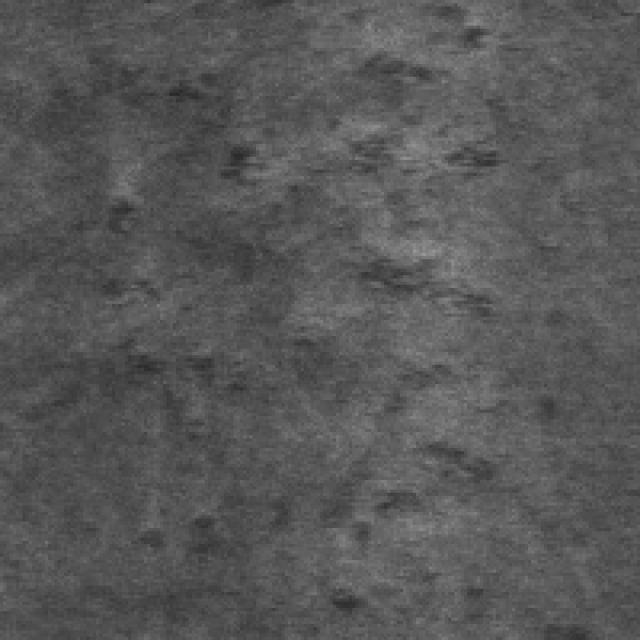rolled-in_scale: (93, 45, 477, 301), (112, 326, 483, 544)
